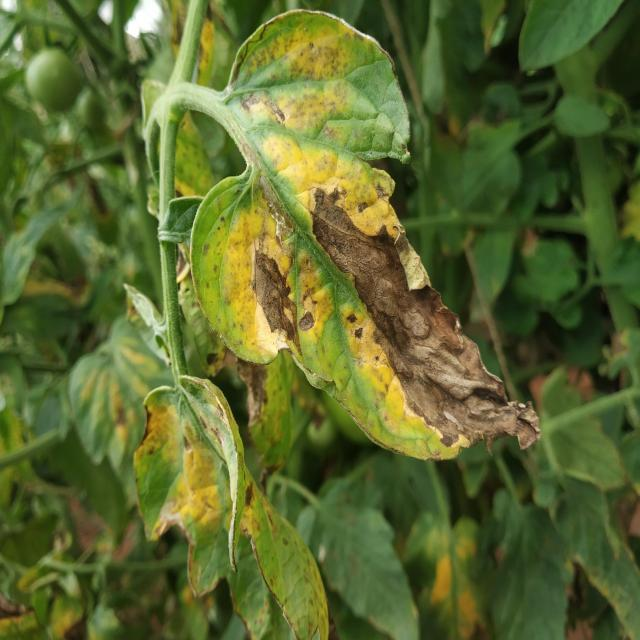Tomato mosaic virus leaf: (185, 13, 558, 483)
